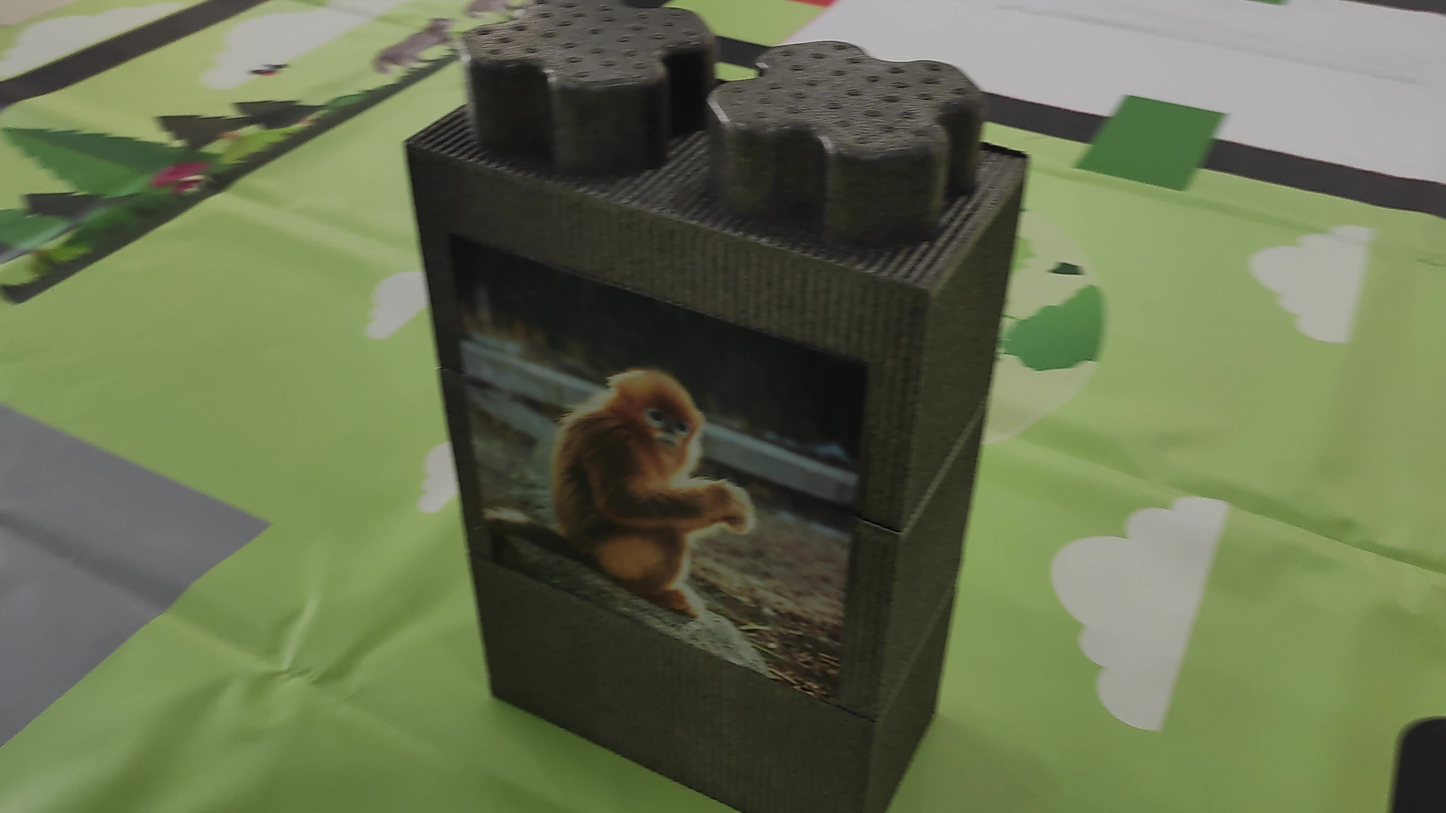monkey: (512, 330, 791, 639)
